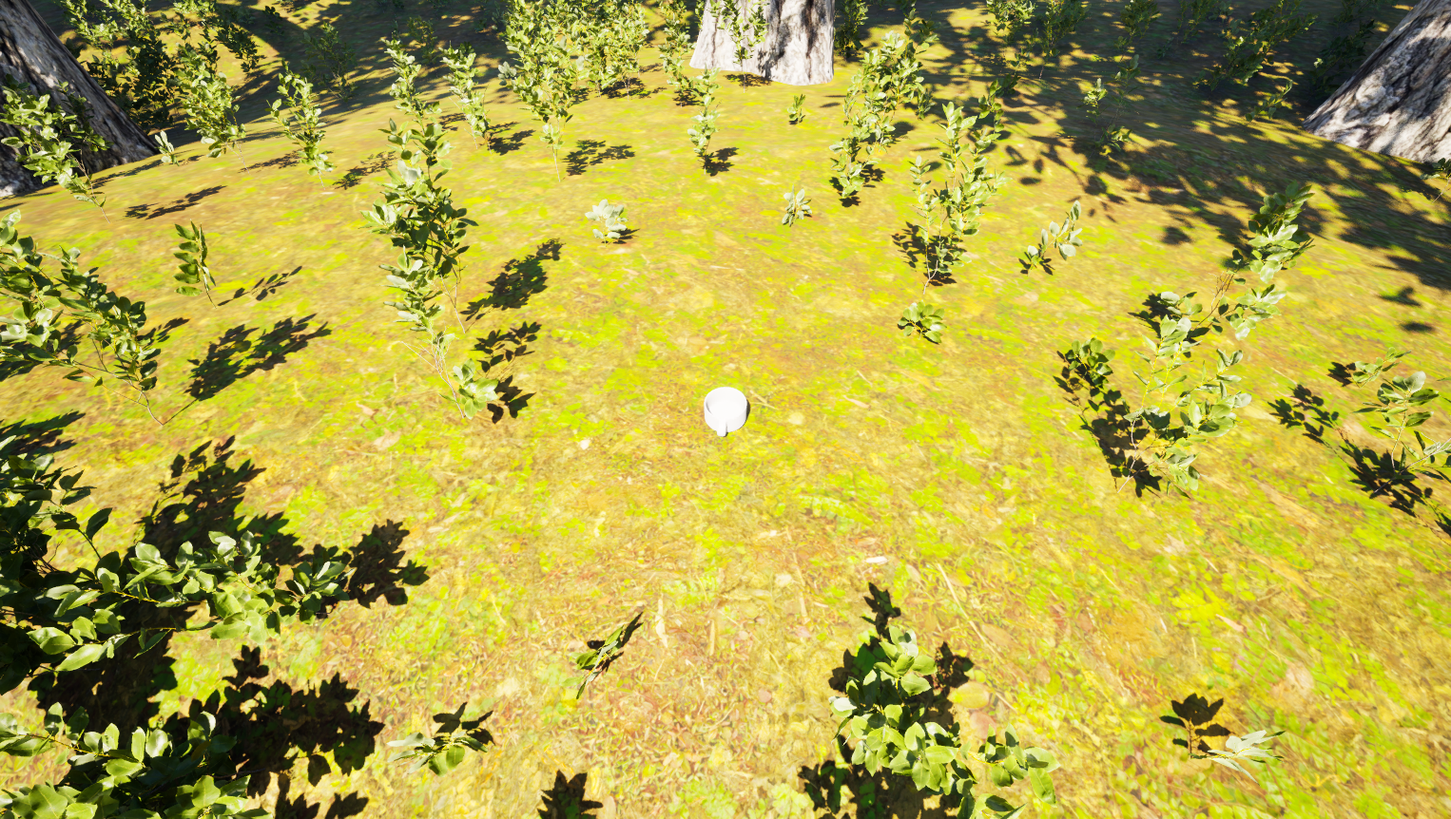Teacup: (691, 381, 756, 444)
